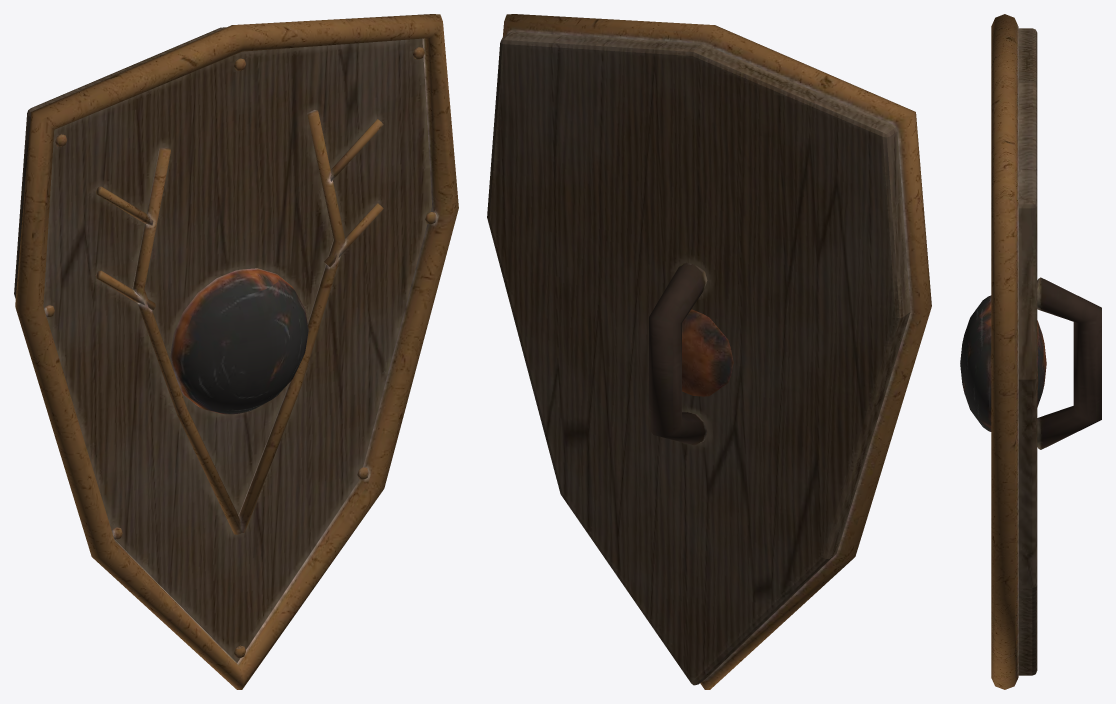
File: eq_shield_2.glb
3 renders of one model, left to right at view 1: azimuth 30°, elevation 25°; view 2: azimuth 150°, elevation 25°; view 3: azimuth 270°, elevation 25°, orthographic. The views are drawn at different scales.
Visible parts, largest first — view 1: eq_shield_2; view 2: eq_shield_2; view 3: eq_shield_2.
Boxes of the visible parts, x1,y1,x2,y2 form: eq_shield_2: (14,14,458,689); eq_shield_2: (487,14,931,689); eq_shield_2: (960,14,1101,689).
Bounding box in the file's own units: 0.6576 × 0.948 × 0.1964.
1 material, 1 textured.
